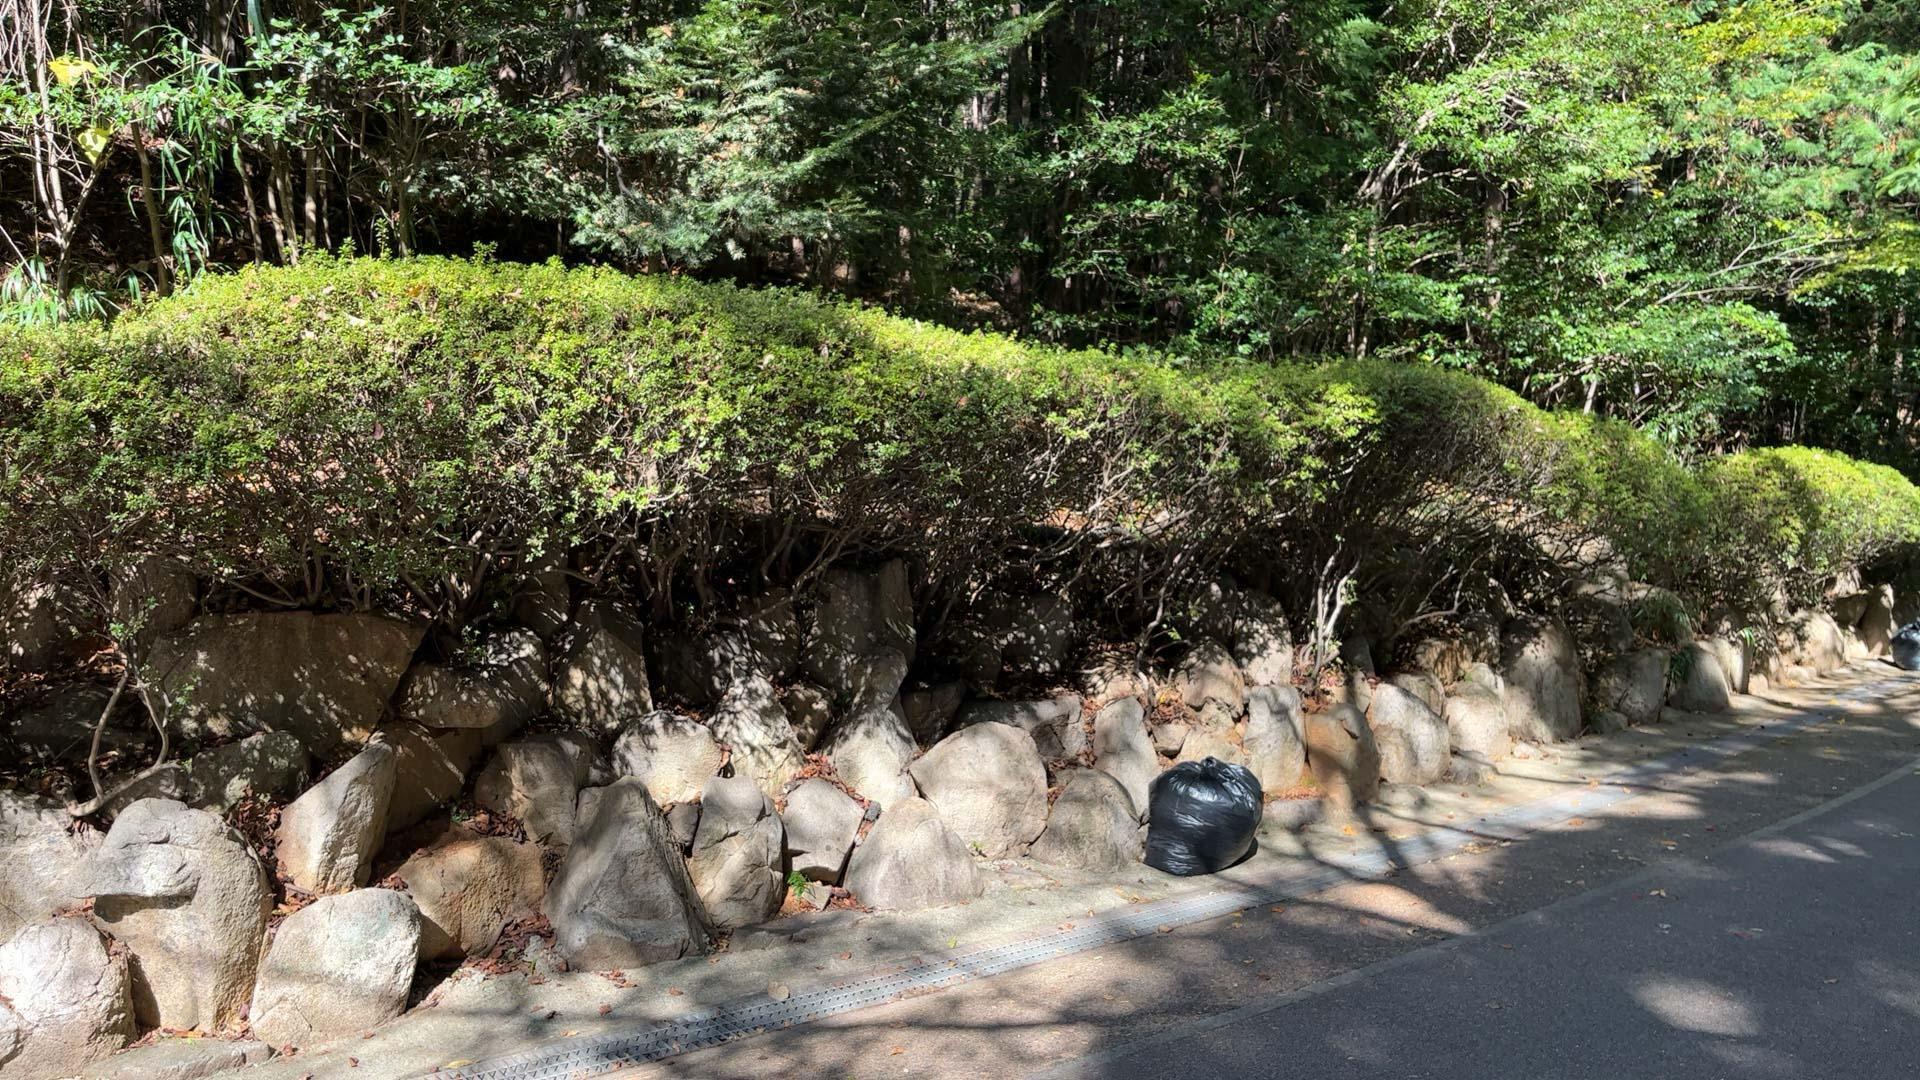white_bag: (1138, 754, 1271, 885)
